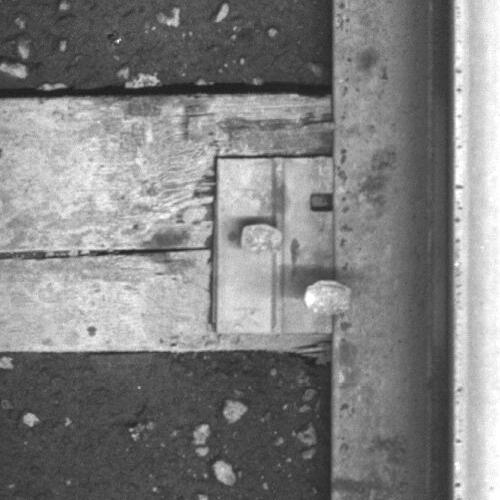do: (214, 156, 356, 334)
hole_do: (302, 184, 345, 222)
rail: (450, 1, 500, 500)
tie_wood: (1, 94, 329, 352)
wood_crack: (1, 241, 211, 264)
